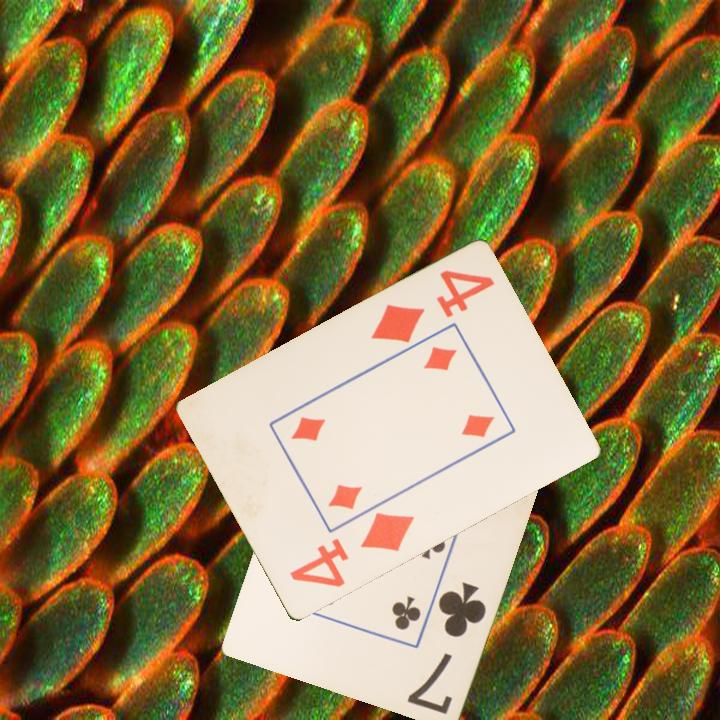4d: (286, 509, 418, 591), (367, 266, 498, 347)
7c: (403, 578, 489, 717)
